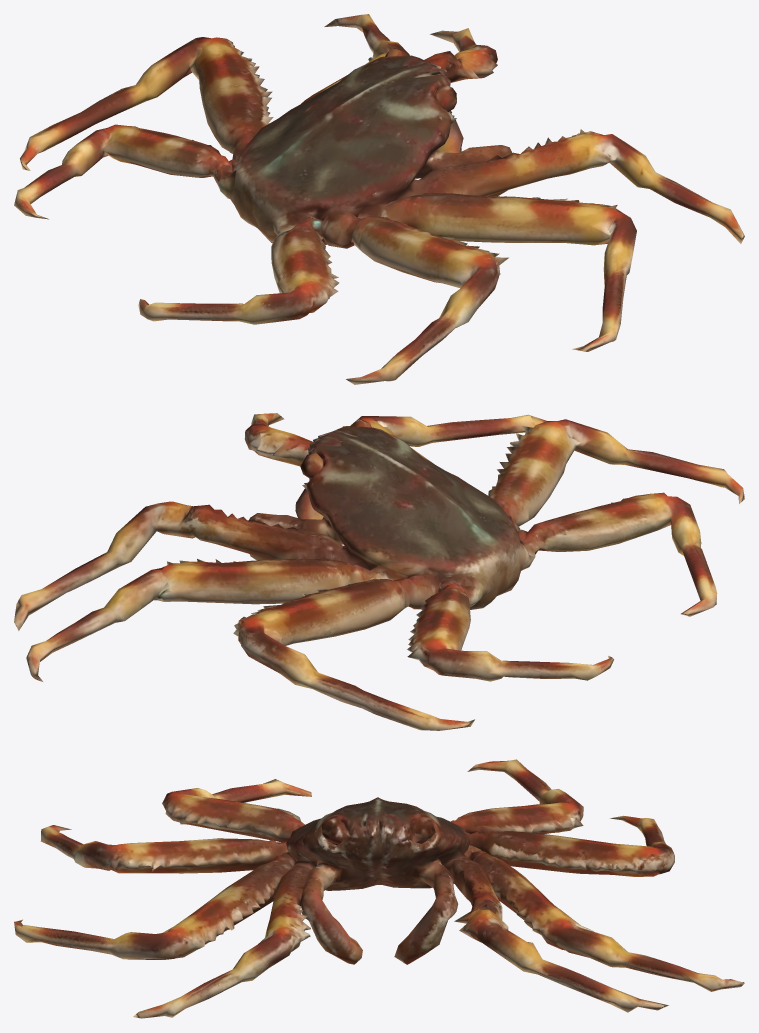
File: sally_lightfoot_tee.glb
3 renders of one model, top to bottom at view 1: azimuth 30°, elevation 25°; view 2: azimuth 150°, elevation 25°; view 3: azimuth 270°, elevation 25°, orthographic. The views are drawn at different scales.
Visible parts, largest first — view 1: tripo_node_6226ada6-cb9f-48da-888e-afdb92e178f4; view 2: tripo_node_6226ada6-cb9f-48da-888e-afdb92e178f4; view 3: tripo_node_6226ada6-cb9f-48da-888e-afdb92e178f4.
Boxes of the visible parts, x1,y1,x2,y2 form: tripo_node_6226ada6-cb9f-48da-888e-afdb92e178f4: (14,14,744,384); tripo_node_6226ada6-cb9f-48da-888e-afdb92e178f4: (14,413,744,730); tripo_node_6226ada6-cb9f-48da-888e-afdb92e178f4: (14,759,744,1018).
Size of the model in its own units: 0.7616 by 0.1923 by 0.9783.
Materials: 1 (1 with a texture image).
